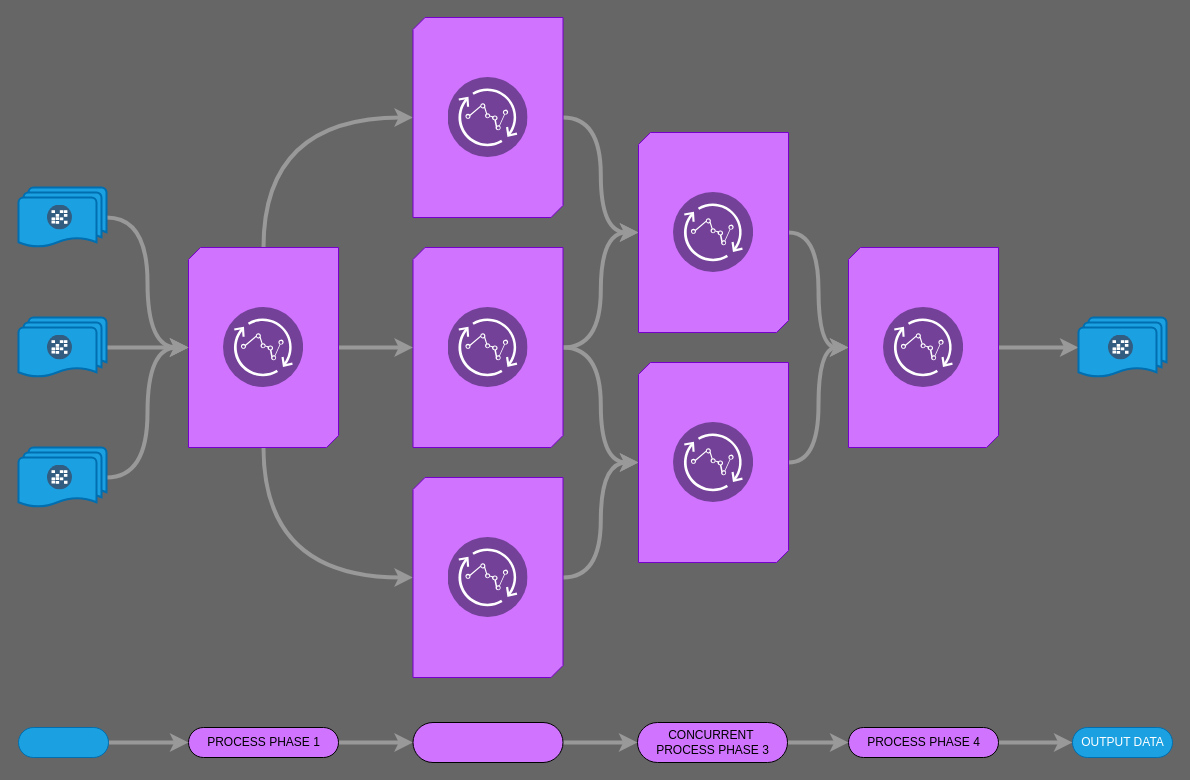
Some shapes in this 1190 by 780 pixel diagram are drawn without their labels. The centre of each missing label's shape, as x and y in pixels:
"CONCURRENT PROCESS PHASE 2" belongs at point 487,742.
"INPUT DATA" belongs at point 63,742.
